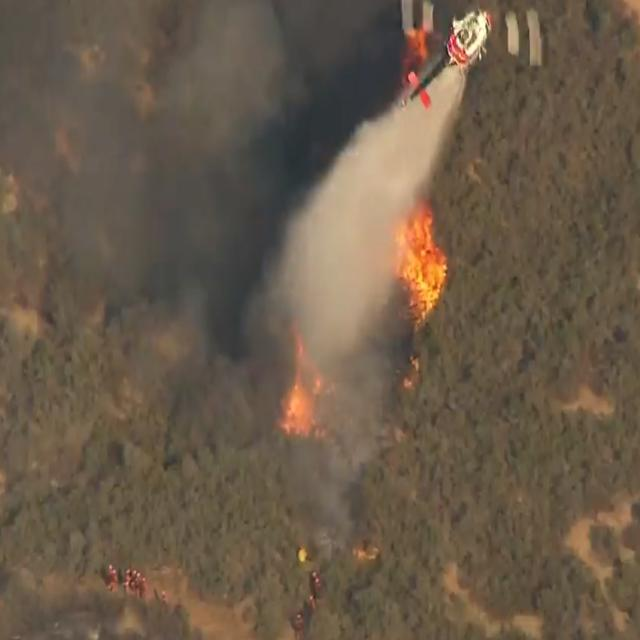Fire: (394, 204, 454, 329), (269, 343, 325, 441)
Smoke: (128, 39, 396, 292)
